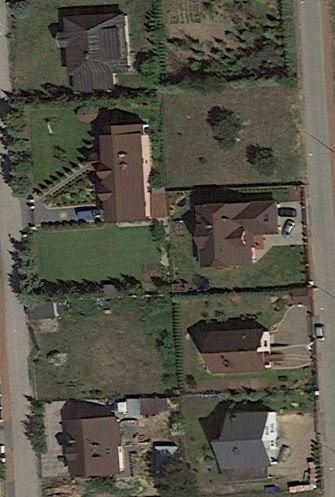family house: (91, 117, 172, 226), (188, 198, 284, 274), (53, 9, 132, 99), (207, 405, 283, 477), (60, 408, 128, 482), (198, 324, 274, 379)
